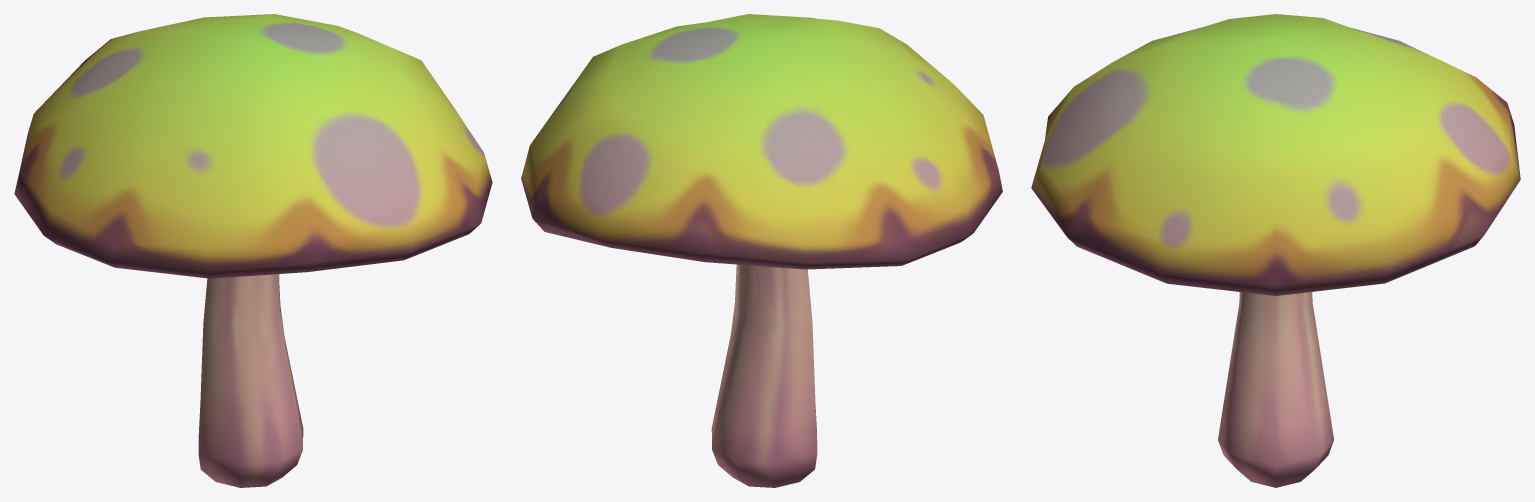
Rendered from mushroom_nomal_M_02.fbx.
The picture shows the model from 3 angles, left to right: view 1: azimuth 30°, elevation 25°; view 2: azimuth 150°, elevation 25°; view 3: azimuth 270°, elevation 25°; orthographic projection.
Visible parts, largest first — view 1: mushroom_Nomal_M1; view 2: mushroom_Nomal_M1; view 3: mushroom_Nomal_M1.
Part boxes in pixels (x1,y1,x2,y2): mushroom_Nomal_M1: (14,14,492,487); mushroom_Nomal_M1: (521,14,1002,487); mushroom_Nomal_M1: (1031,14,1520,487).
Bounding box in the file's own units: 1406 × 1384 × 1419.
